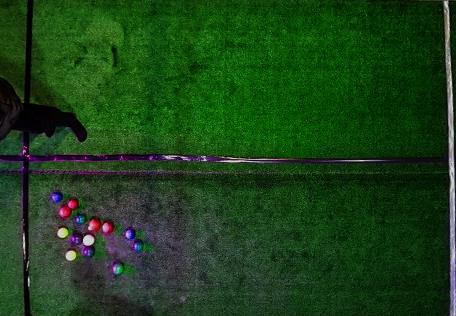blue: (51, 191, 63, 203), (125, 229, 136, 239)
green: (112, 263, 124, 275), (70, 233, 82, 245), (83, 246, 95, 257), (133, 241, 143, 252), (75, 214, 86, 224)
red: (102, 221, 114, 234), (89, 218, 101, 231), (58, 206, 71, 218), (83, 234, 95, 246), (67, 198, 79, 210)
vline: (1, 134, 31, 315), (441, 0, 455, 316), (1, 0, 34, 105)
white: (88, 226, 91, 230)
yellow: (57, 227, 69, 238), (65, 250, 77, 261)
